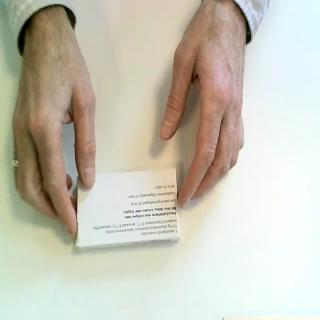oxycontin15mg: (76, 167, 182, 249)
